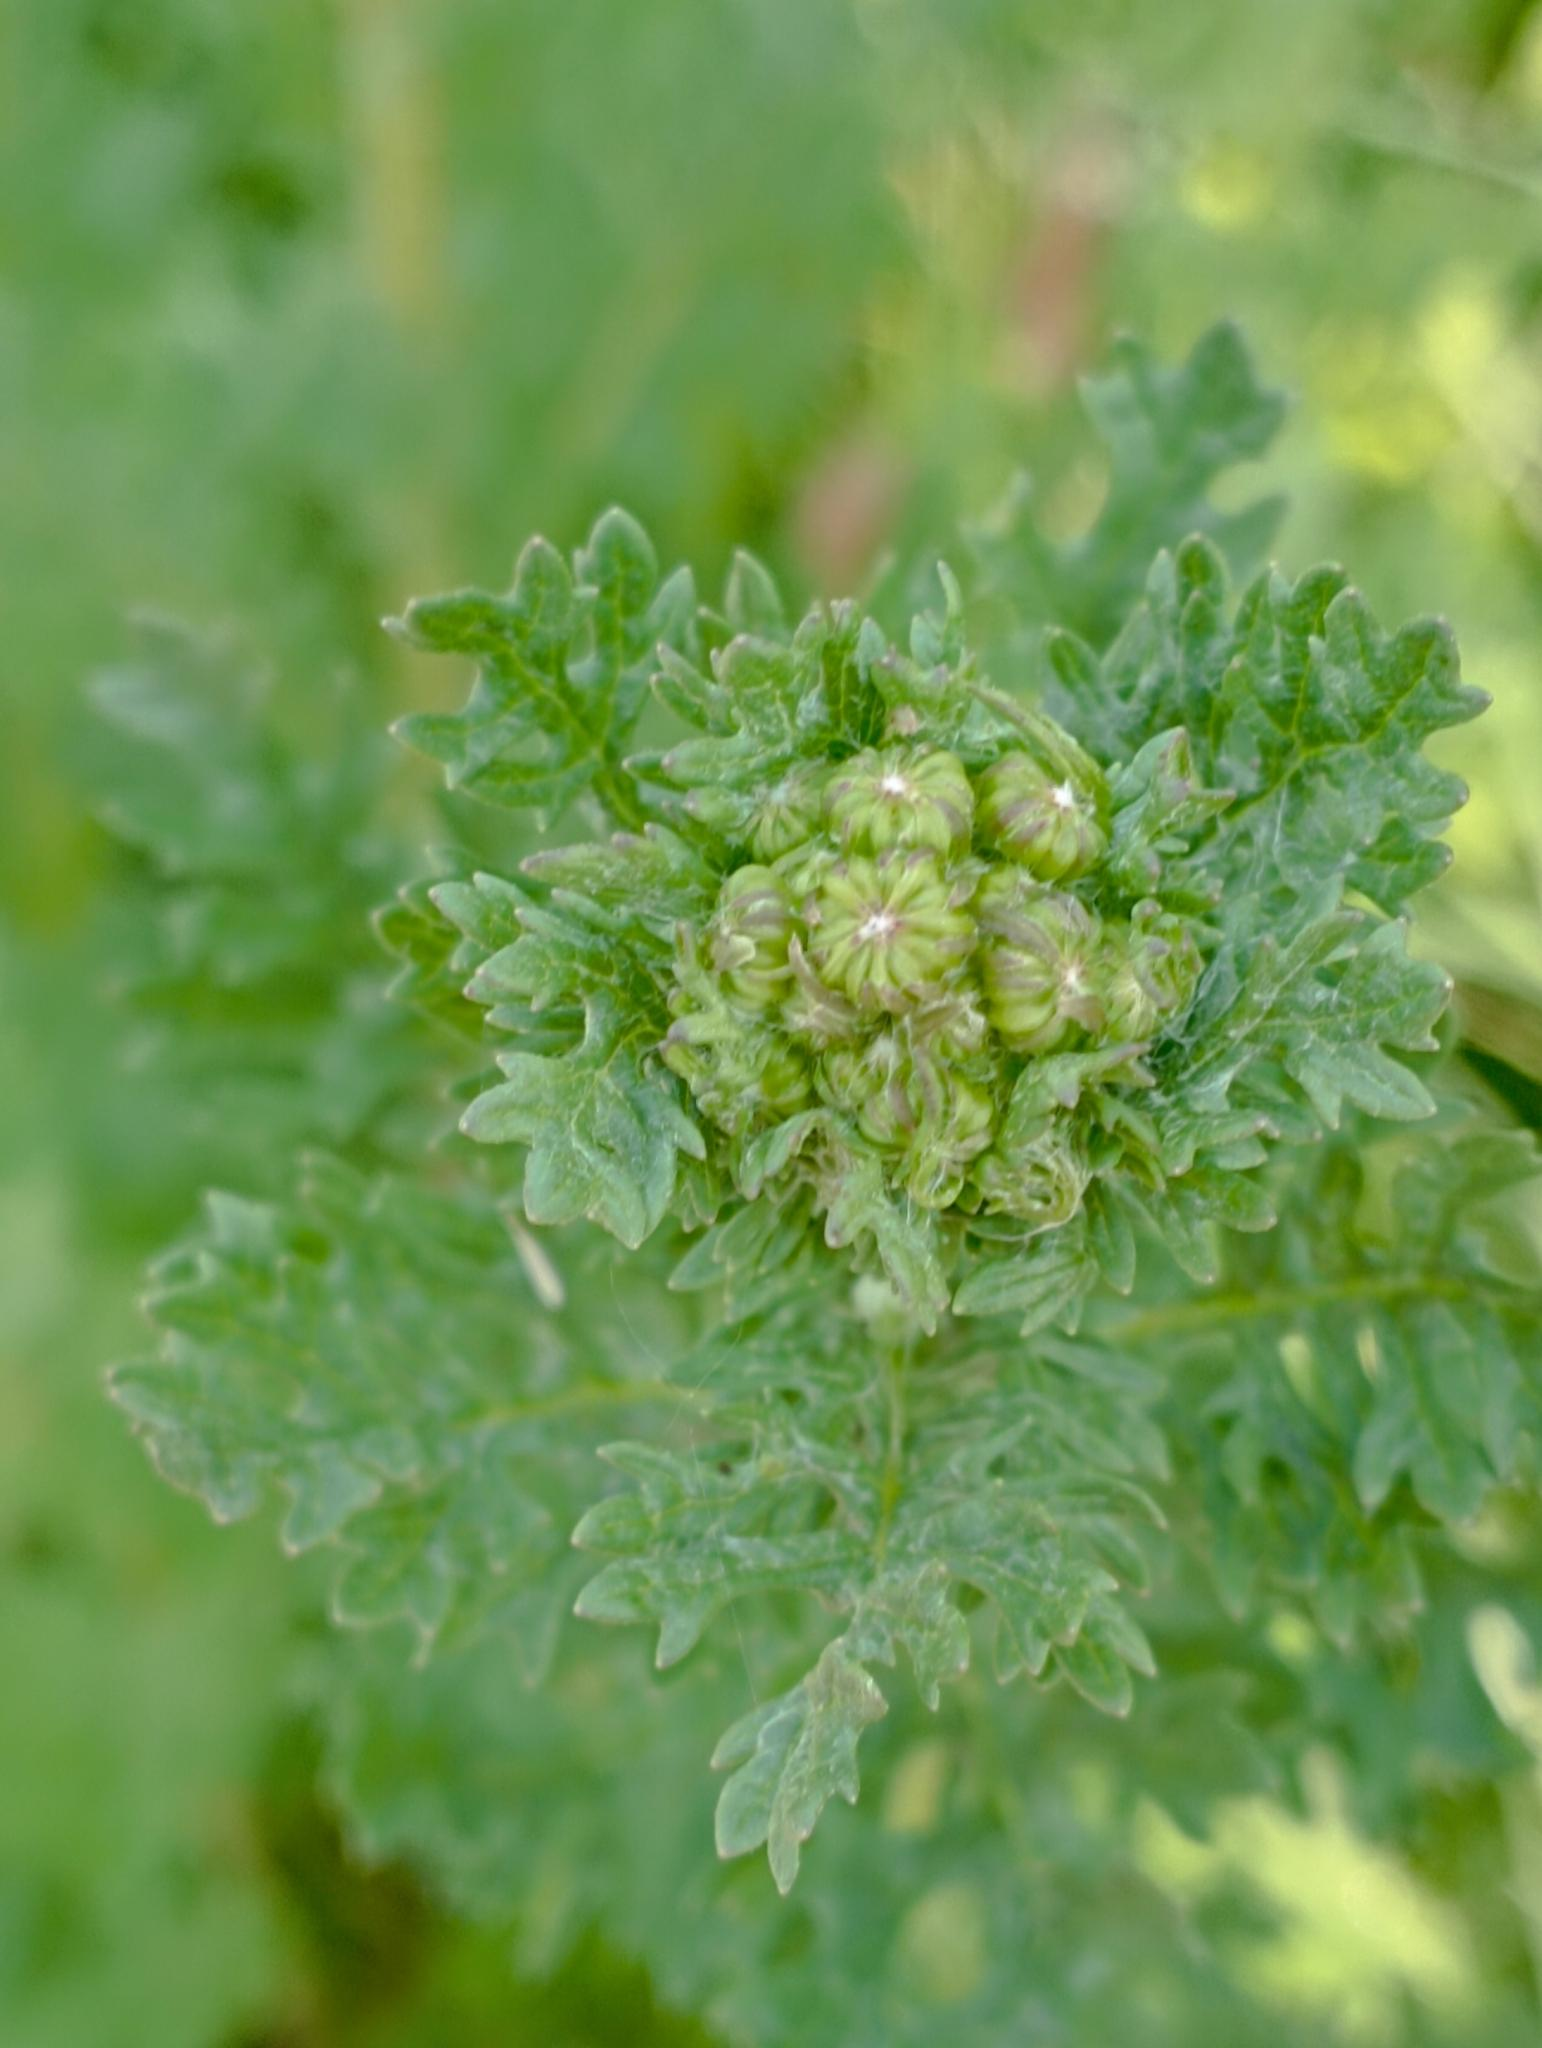Jacobaea vulgaris: (243, 356, 1534, 1703)
